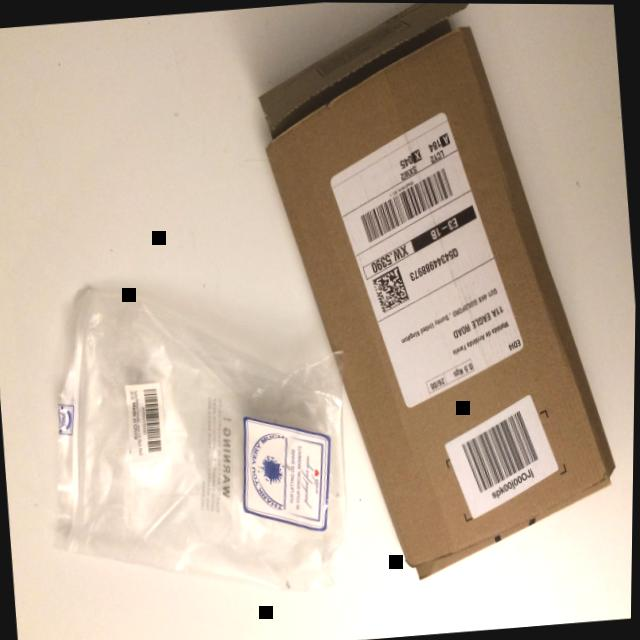Corrugated carton: (259, 2, 617, 579)
Plastic film: (54, 288, 349, 591)
